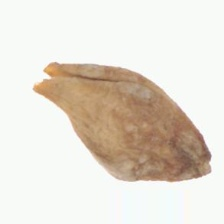L1: (30, 59, 70, 98), (192, 148, 214, 179)
L2: (33, 61, 212, 183)
